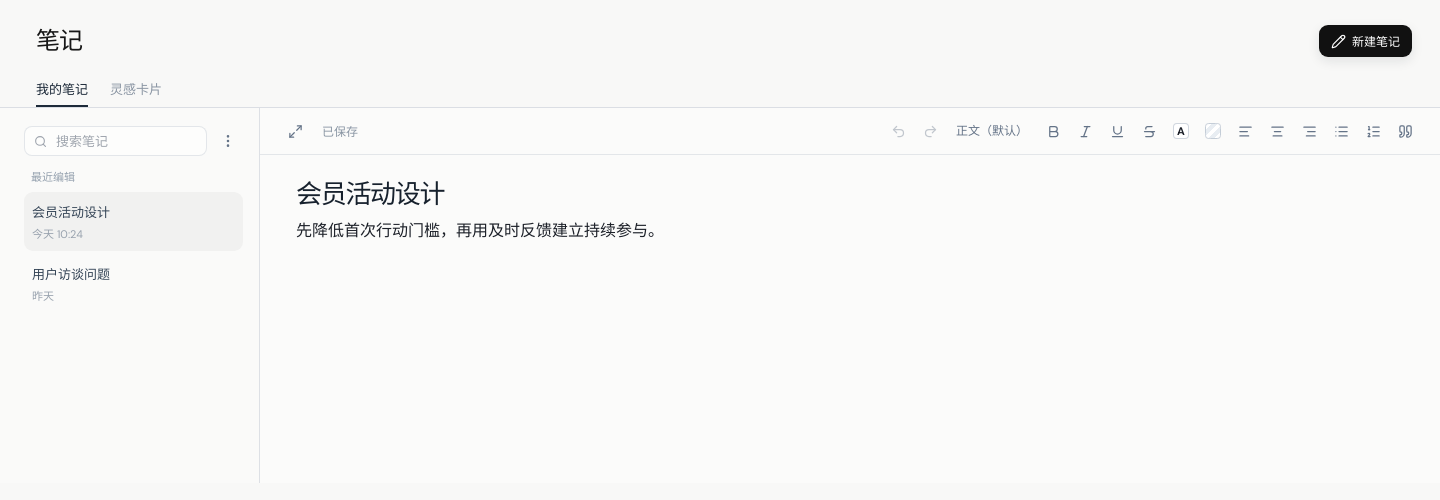
NotesWorkspace › opens blank create notes in fullscreen without materials panel
The image size is (1440, 500).
Click the button "新建笔记": click(1366, 41) [1319,25,1412,57]
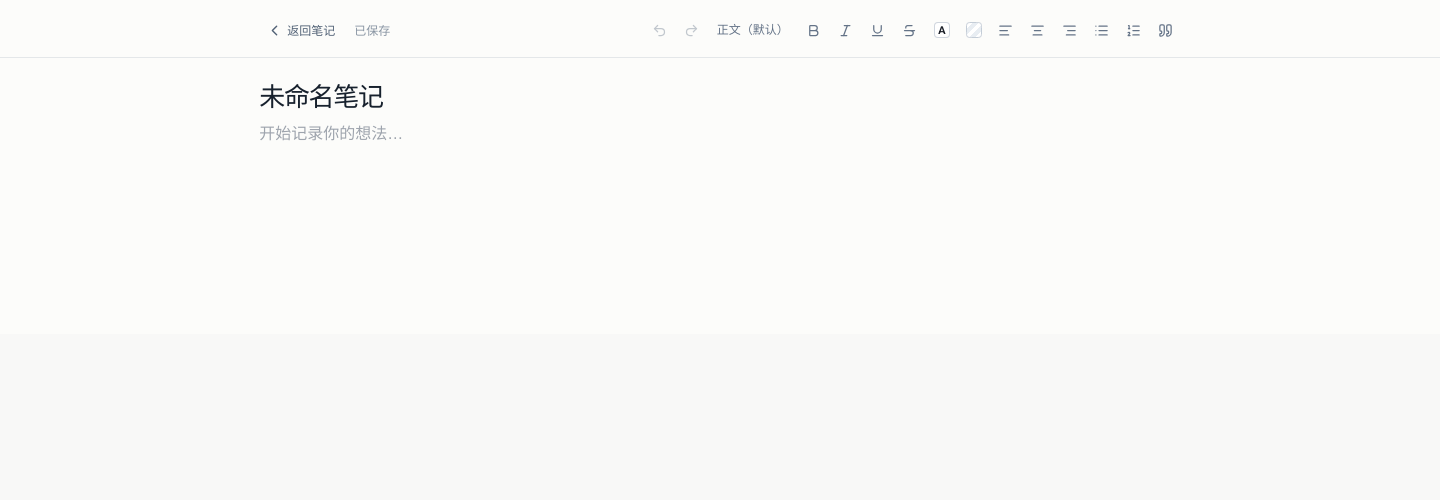
Now the field showing "未命名笔记" is shown, box [259,78,1181,112]
Now the button "返回笔记" is shown, box [259,16,342,44]
